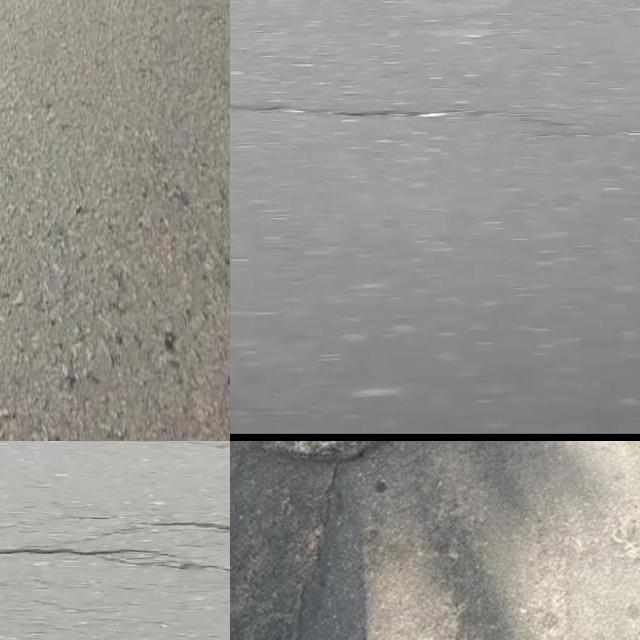Lubang: (255, 441, 397, 468)
Melintang: (0, 536, 230, 577), (230, 93, 501, 124), (134, 513, 230, 547)
